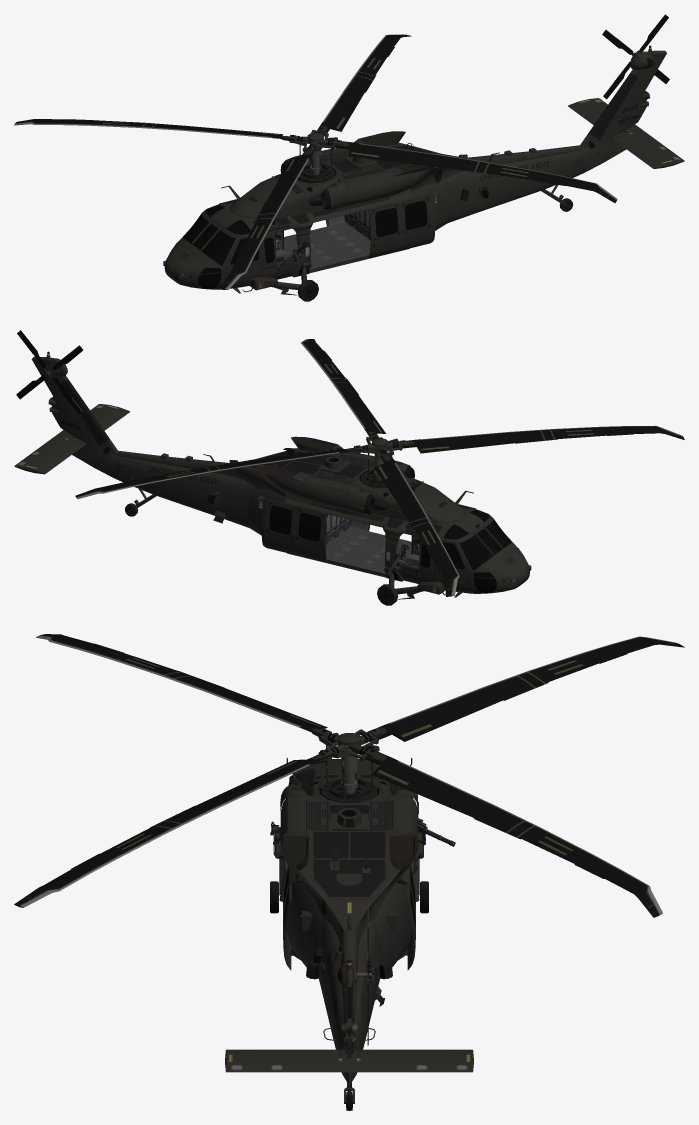
File: uh60_black_hawk.glb
3 views of the same model, one above another, from view 1: azimuth 30°, elevation 25°; view 2: azimuth 150°, elevation 25°; view 3: azimuth 270°, elevation 25° (orthographic). The views are drawn at different scales.
Parts seen in each view (by area): view 1: uh60_black_hawk; view 2: uh60_black_hawk; view 3: uh60_black_hawk.
Boxes of the visible parts, box(x1,y1,x2,y2) form: uh60_black_hawk: box(14, 14, 684, 301); uh60_black_hawk: box(14, 330, 684, 605); uh60_black_hawk: box(14, 634, 684, 1110).
Size of the model in its own units: 17.02 by 4.85 by 12.21.
1 material, 1 textured.
